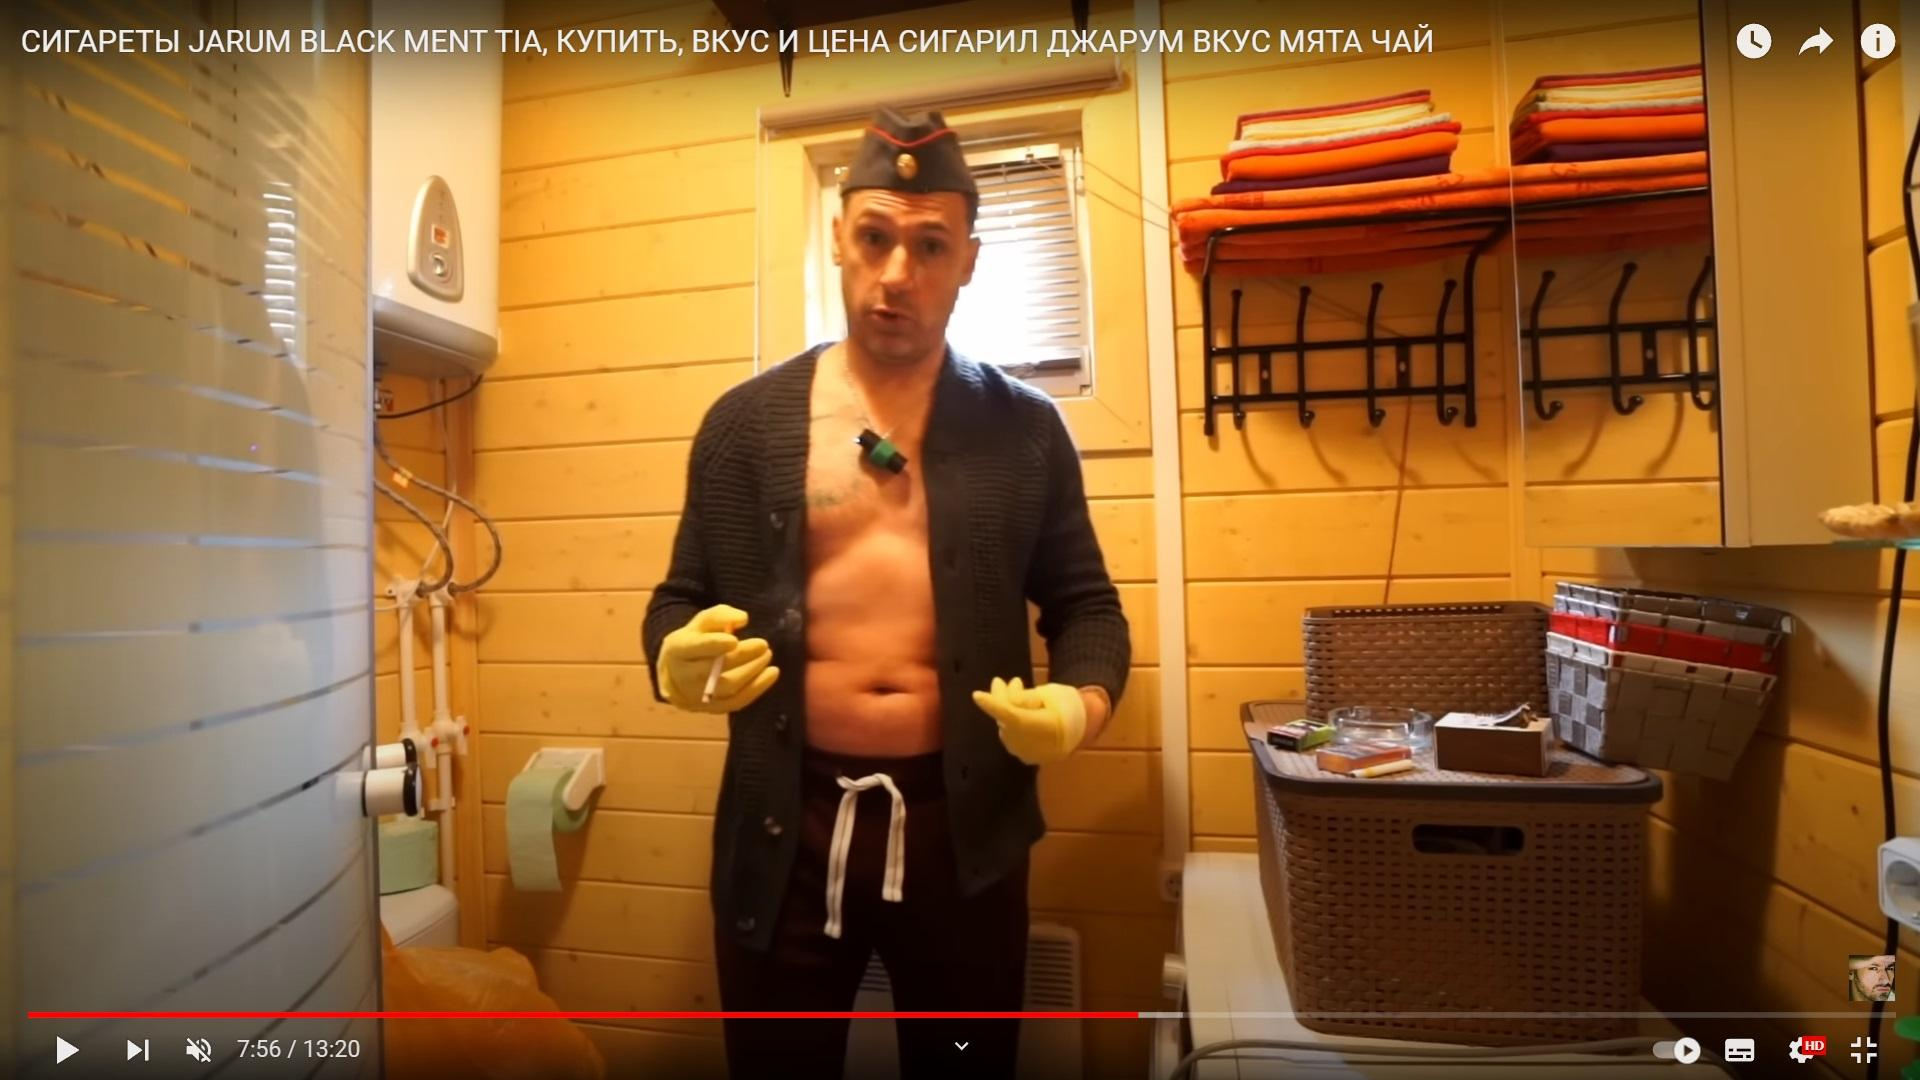cigarette: (702, 653, 724, 705)
